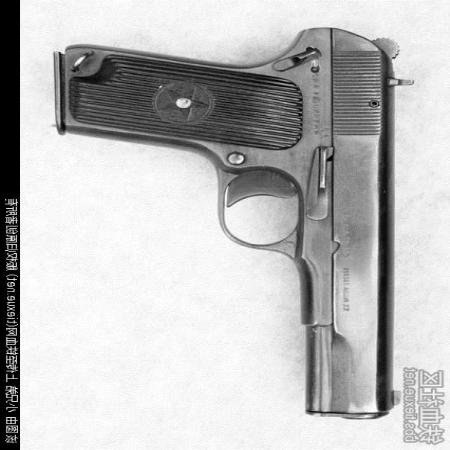Pistol: (49, 29, 408, 420)
